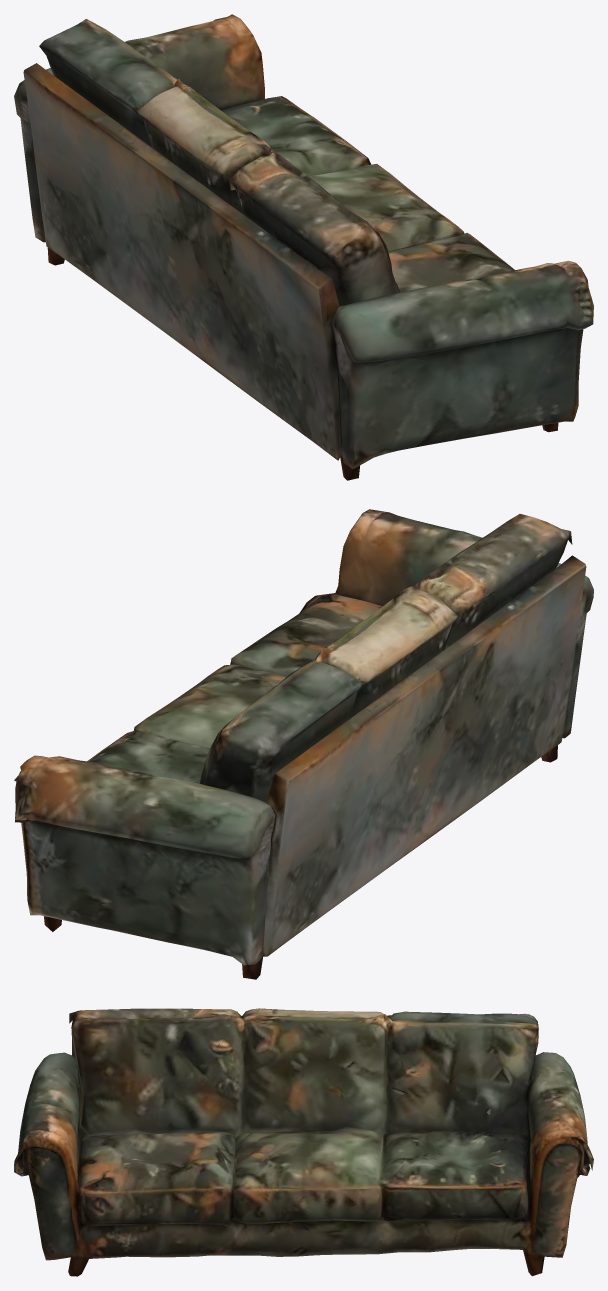
Rendered from sofa.glb.
The picture shows the model from 3 angles, top to bottom: view 1: azimuth 30°, elevation 25°; view 2: azimuth 150°, elevation 25°; view 3: azimuth 270°, elevation 25°; orthographic projection. The views are drawn at different scales.
Parts seen in each view (by area): view 1: tripo_node_0c101912-0572-43af-b07c-6abe4a61f8b8; view 2: tripo_node_0c101912-0572-43af-b07c-6abe4a61f8b8; view 3: tripo_node_0c101912-0572-43af-b07c-6abe4a61f8b8.
Boxes of the visible parts, bbox=[...] form: tripo_node_0c101912-0572-43af-b07c-6abe4a61f8b8: bbox=[14, 14, 593, 480]; tripo_node_0c101912-0572-43af-b07c-6abe4a61f8b8: bbox=[14, 509, 593, 979]; tripo_node_0c101912-0572-43af-b07c-6abe4a61f8b8: bbox=[14, 1008, 593, 1276].
Bounding box in the file's own units: 0.4089 × 0.3705 × 0.9986.
Materials: 1 (1 with a texture image).
